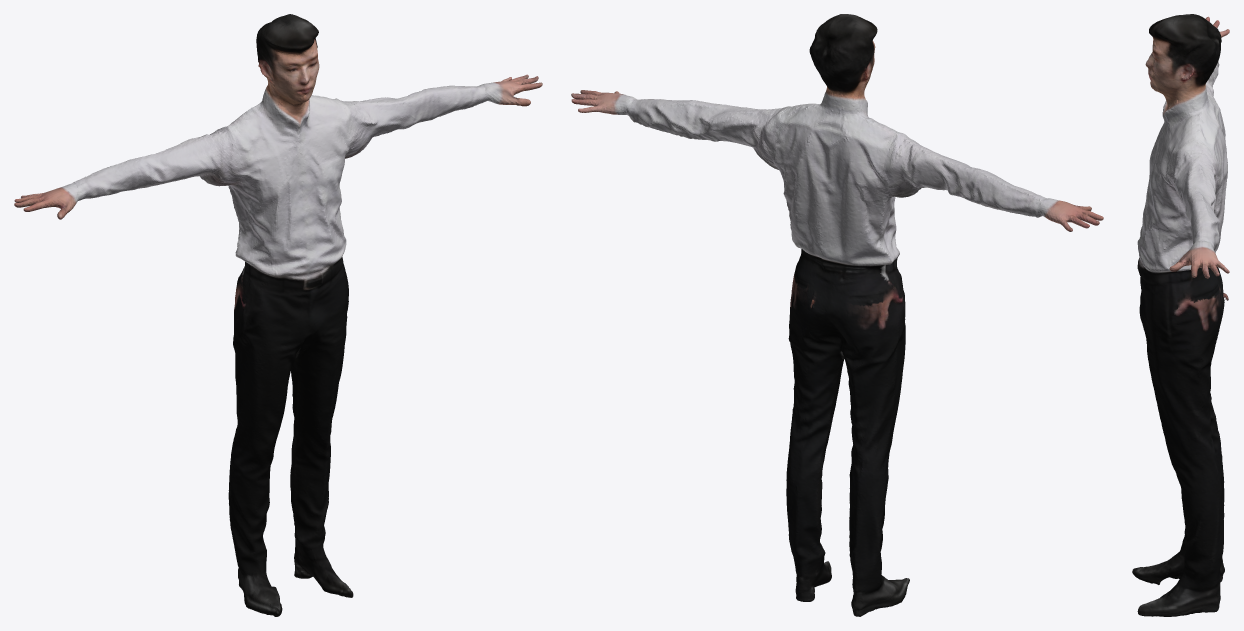
File: animation_lowres.obj
3 renders of one model, left to right at view 1: azimuth 30°, elevation 25°; view 2: azimuth 150°, elevation 25°; view 3: azimuth 270°, elevation 25°, orthographic.
Bounding box in the file's own units: 1.89 × 1.98 × 0.3017.
